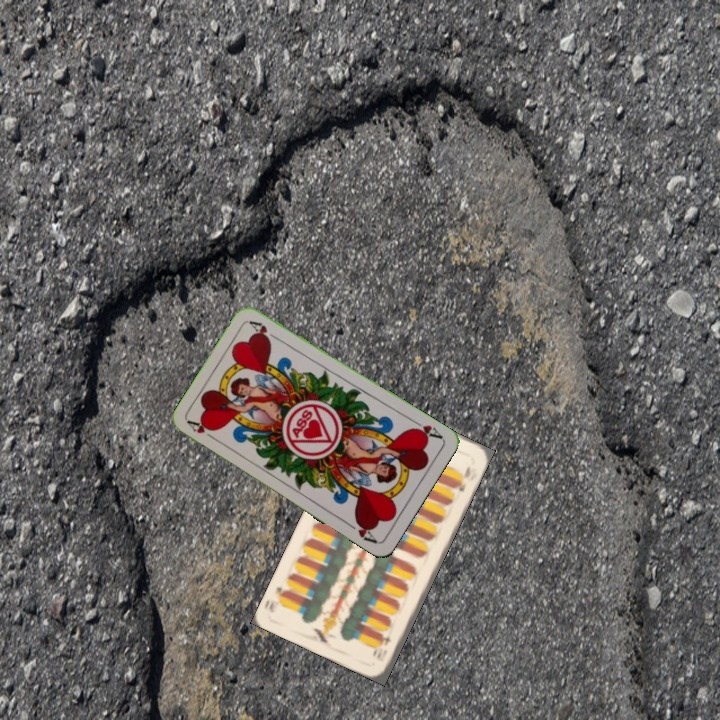E10: (373, 631, 394, 664)
HA: (184, 416, 220, 444), (408, 415, 445, 442)
